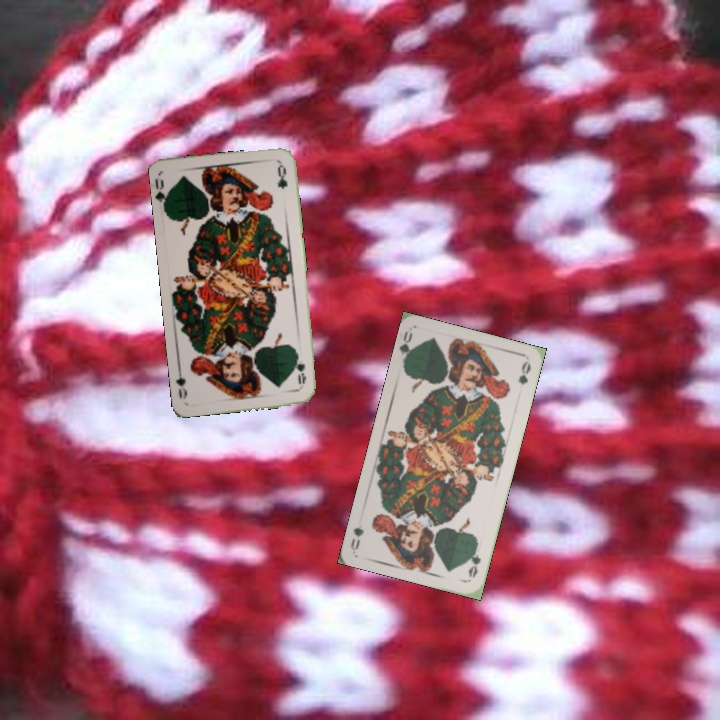GO: (396, 327, 418, 369), (152, 175, 173, 214), (464, 541, 484, 580), (292, 349, 309, 387)
